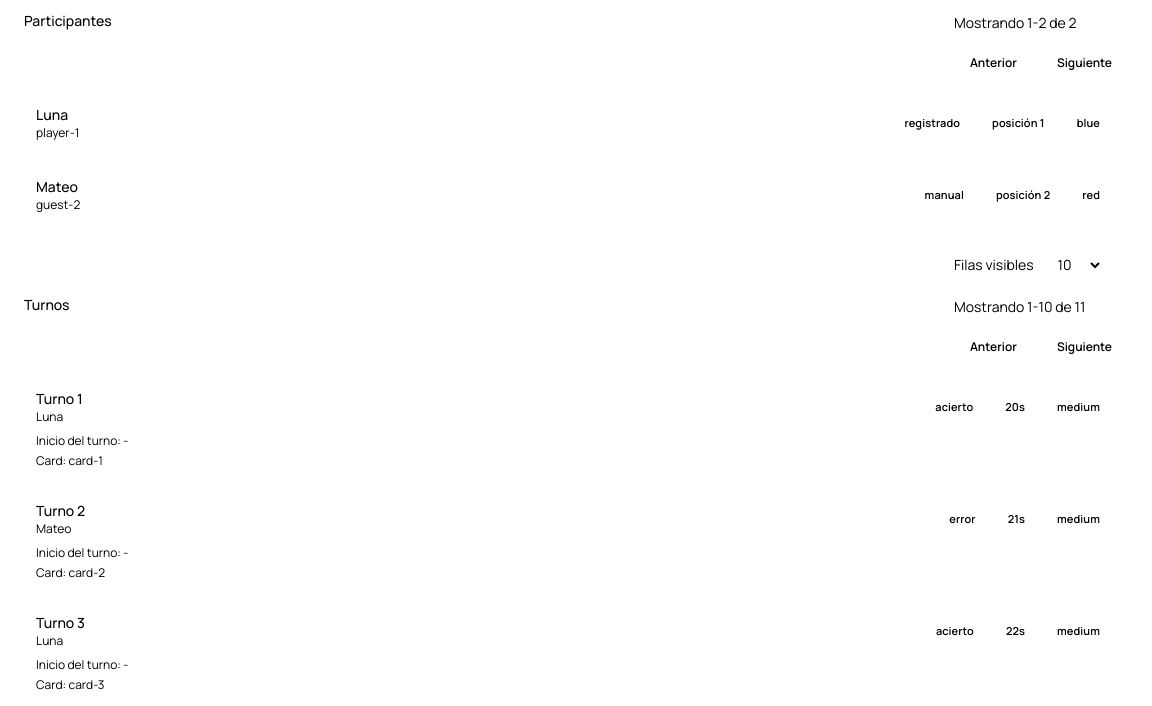
GameDetailPage › paginates the turn list inside the detail page
This screenshot has width=1152, height=706.
(page scrolled)
Check: the text "Mostrando 1-10 de 11" is shown, box [954,296,1086,316]
Click the button "Siguiente" below "Mostrando 1-10 de 11": (1084, 346) [1041,328,1128,364]
(page scrolled)
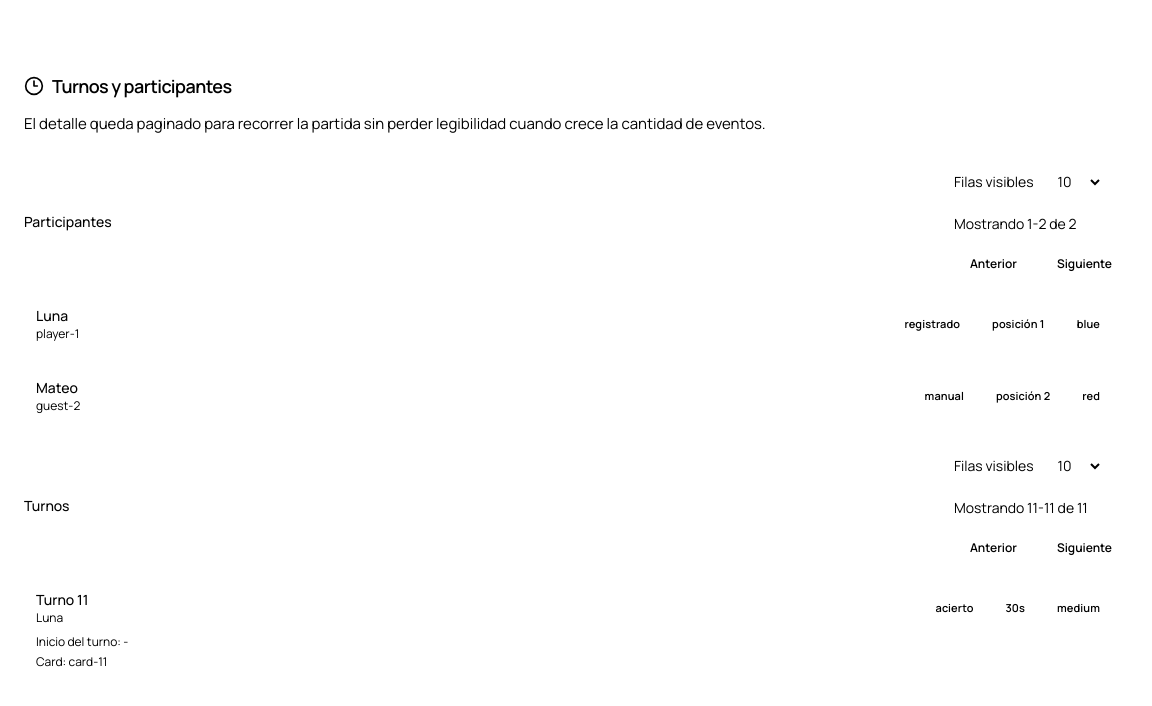
Check: the text "Turno 11" is shown, box [36,590,88,610]
